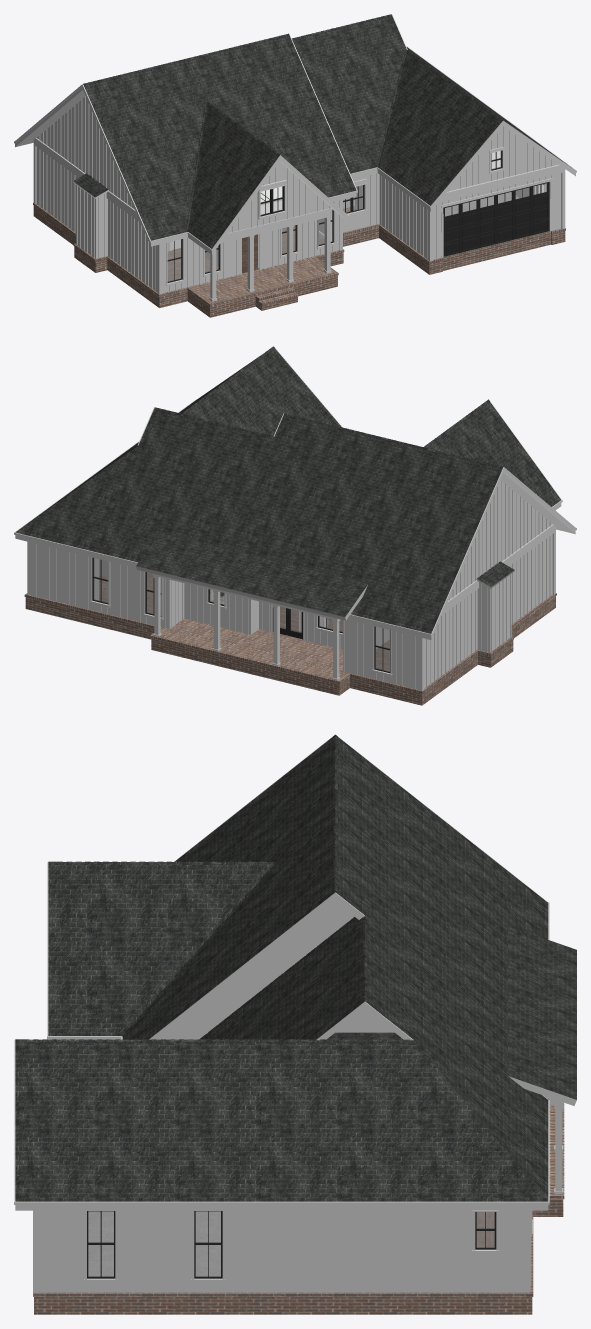
Rendered from american.glb.
The picture shows the model from 3 angles, top to bottom: view 1: azimuth 30°, elevation 25°; view 2: azimuth 150°, elevation 25°; view 3: azimuth 270°, elevation 25°; orthographic projection. The views are drawn at different scales.
Visible parts, largest first — view 1: Object_83, Object_9, Object_5, Object_26, Object_27, Object_6, Object_10, Object_7; view 2: Object_83, Object_9, Object_5, Object_27, Object_6, Object_26, Object_10; view 3: Object_83, Object_9, Object_5, Object_27, Object_7, Object_26.
Part boxes in pixels (<box>): Object_83: <box>73,14,571,248</box>; Object_9: <box>14,14,576,301</box>; Object_5: <box>33,202,565,317</box>; Object_26: <box>167,150,549,282</box>; Object_27: <box>168,151,546,281</box>; Object_6: <box>167,206,357,281</box>; Object_10: <box>167,183,546,268</box>; Object_7: <box>445,192,519,216</box>; Object_83: <box>15,346,560,633</box>; Object_9: <box>14,346,576,691</box>; Object_5: <box>24,593,556,705</box>; Object_27: <box>94,558,389,671</box>; Object_6: <box>99,572,389,671</box>; Object_26: <box>92,557,390,673</box>; Object_10: <box>94,558,389,648</box>; Object_83: <box>15,734,576,1201</box>; Object_9: <box>14,734,576,1293</box>; Object_5: <box>33,1102,564,1314</box>; Object_27: <box>88,1211,494,1276</box>; Object_7: <box>88,1211,220,1276</box>; Object_26: <box>87,1211,496,1278</box>.
Size of the model in its own units: 19.5 by 8.64 by 15.47.
Materials: 19 (13 with a texture image).
